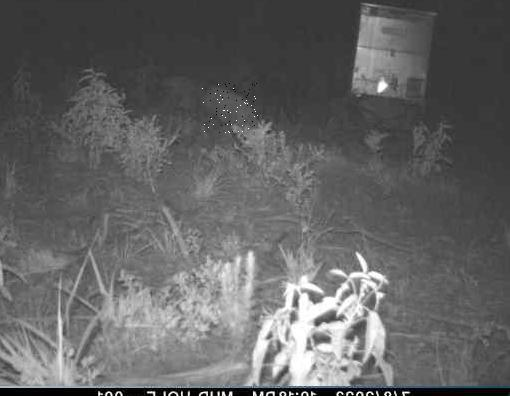Hog: (202, 83, 258, 133)
